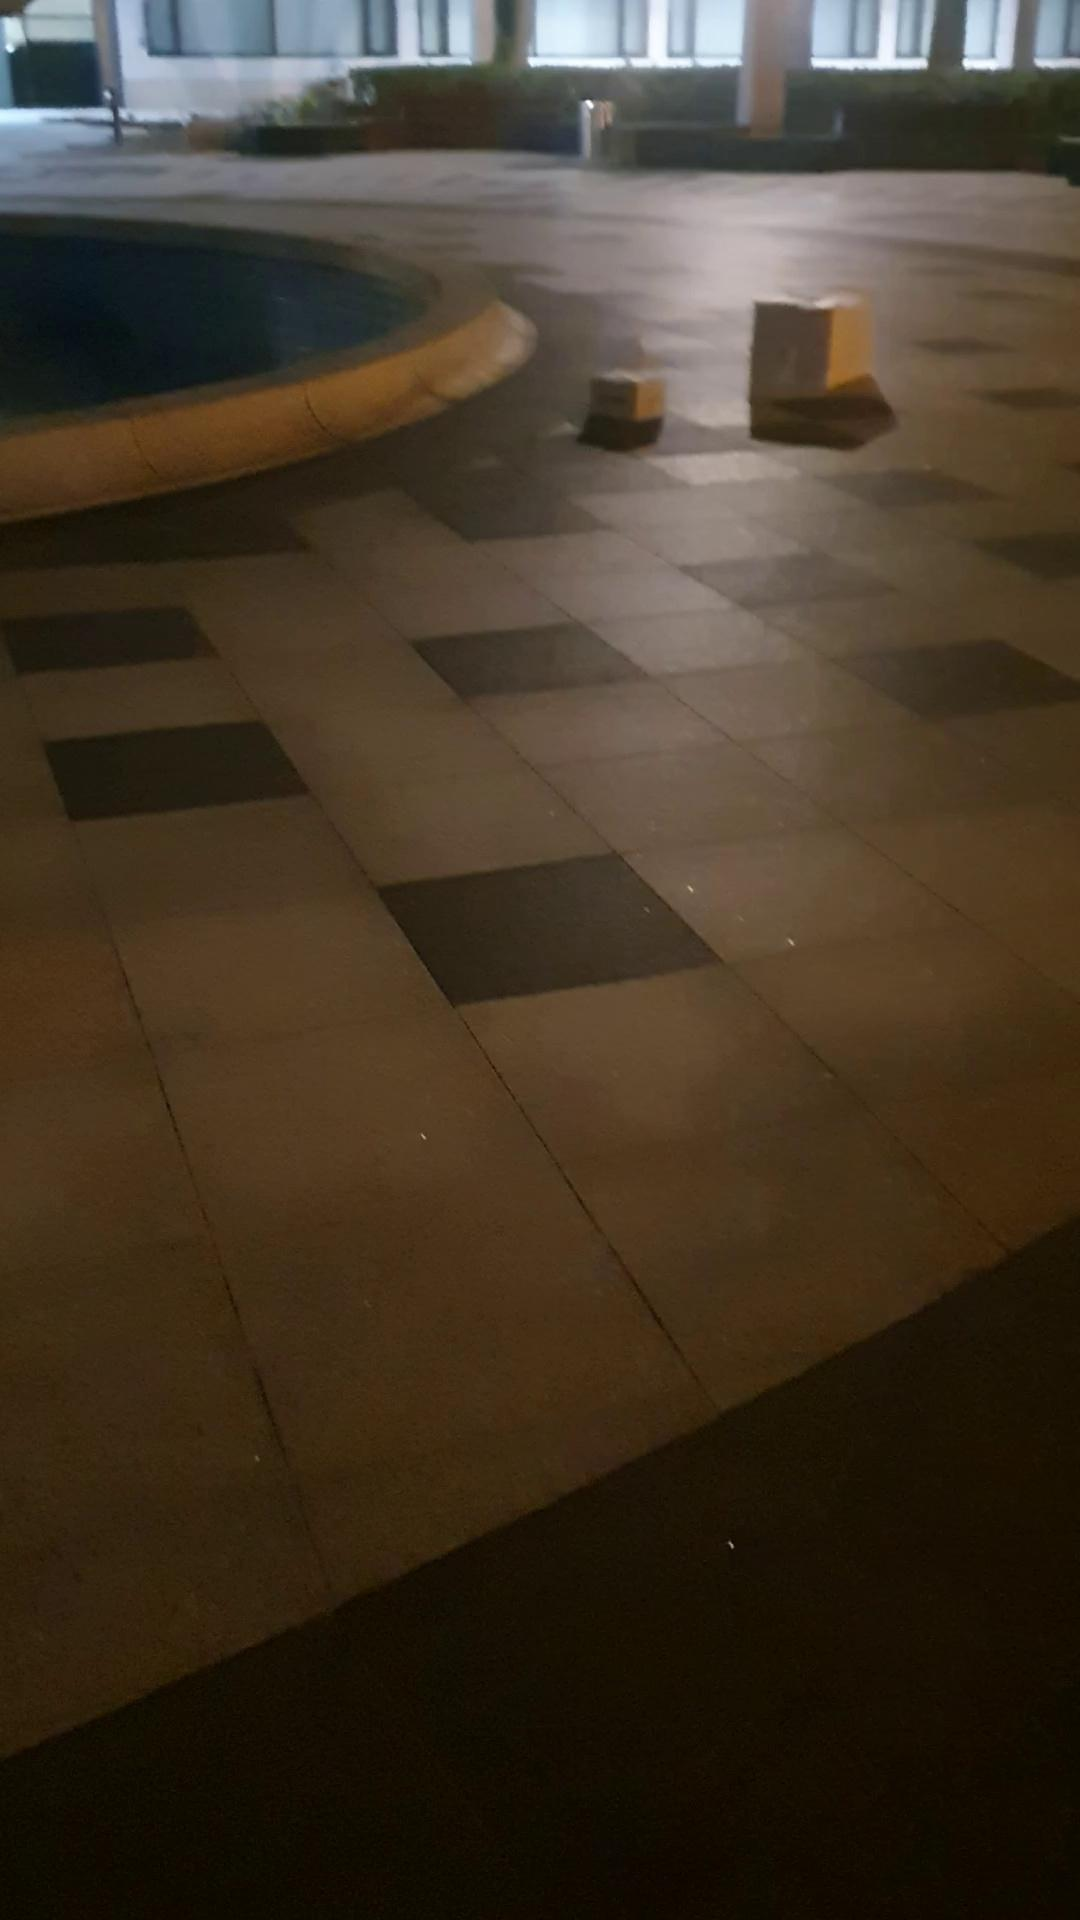Box: (713, 278, 884, 430), (582, 343, 662, 443)
